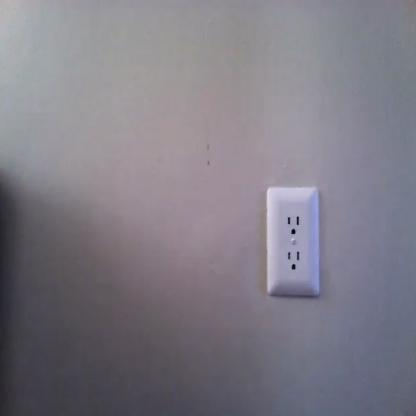OUTLET: (267, 186, 320, 296)
